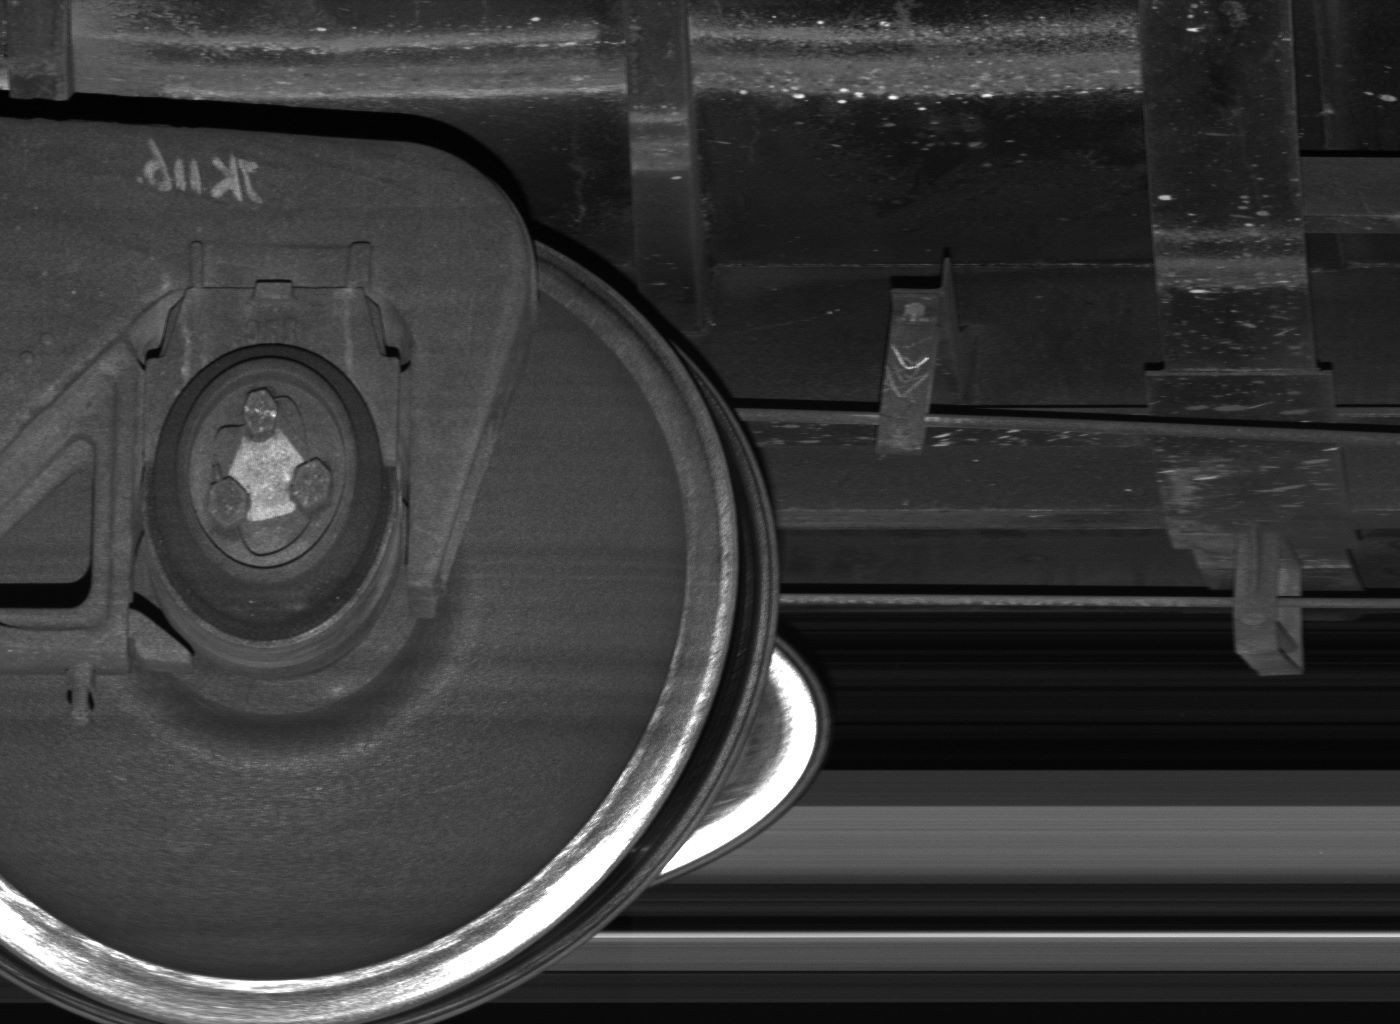normal: (879, 259, 960, 455), (1235, 535, 1309, 678)
